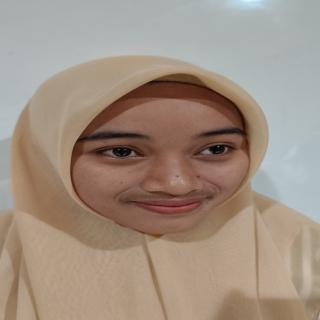Senang: (56, 76, 271, 238)
